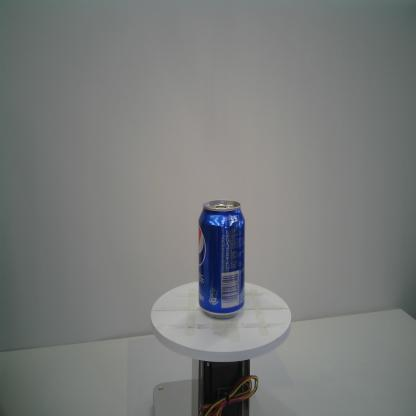Drink: (198, 199, 245, 320)
